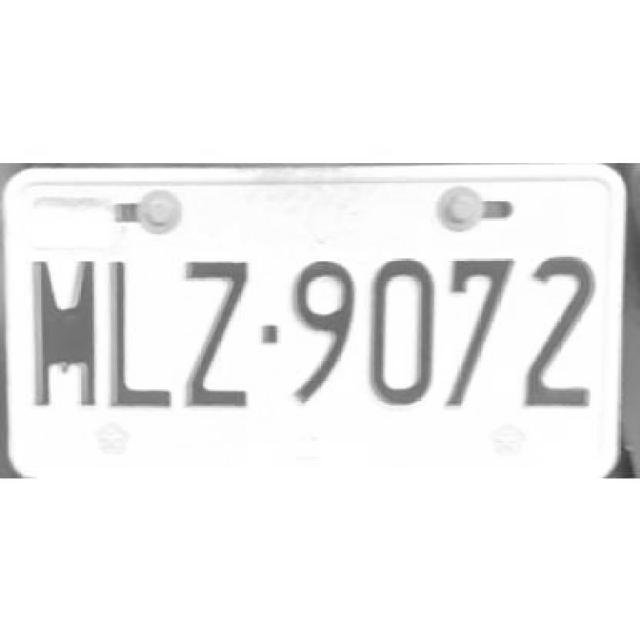-: (258, 320, 282, 348)
0: (365, 248, 437, 410)
2: (516, 248, 596, 412)
7: (440, 249, 517, 411)
9: (284, 249, 358, 406)
L: (103, 251, 172, 414)
M: (28, 251, 100, 409)
Z: (178, 250, 250, 412)
